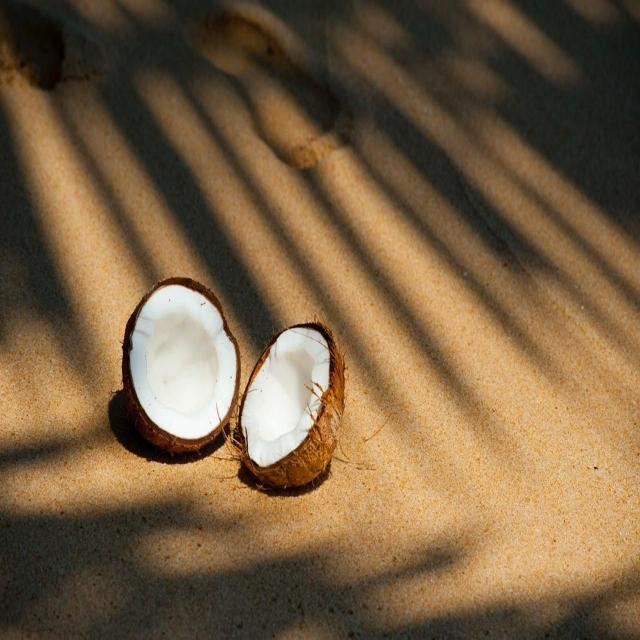coconut: (120, 274, 236, 456), (238, 317, 346, 491)
